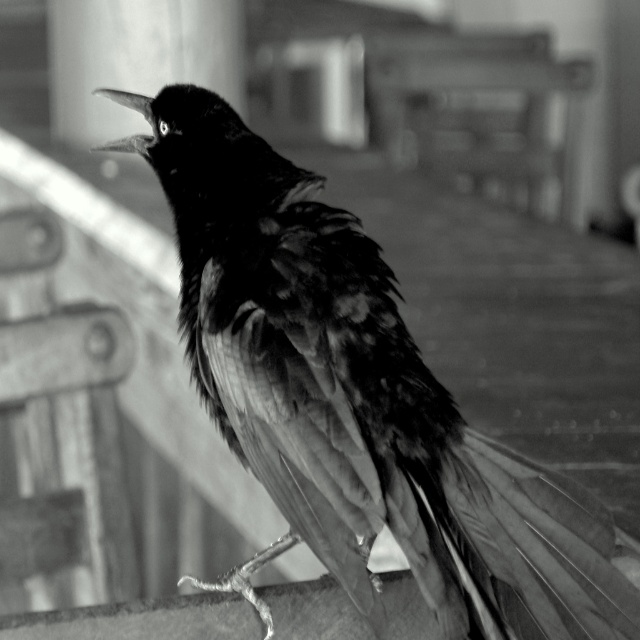Raven: (56, 74, 602, 620)
